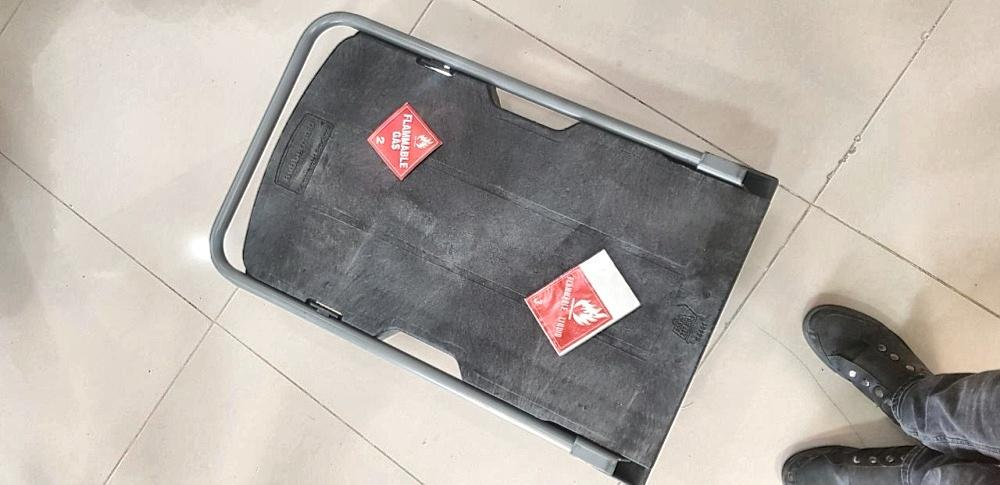flammable: (530, 268, 612, 350), (366, 101, 443, 181)
